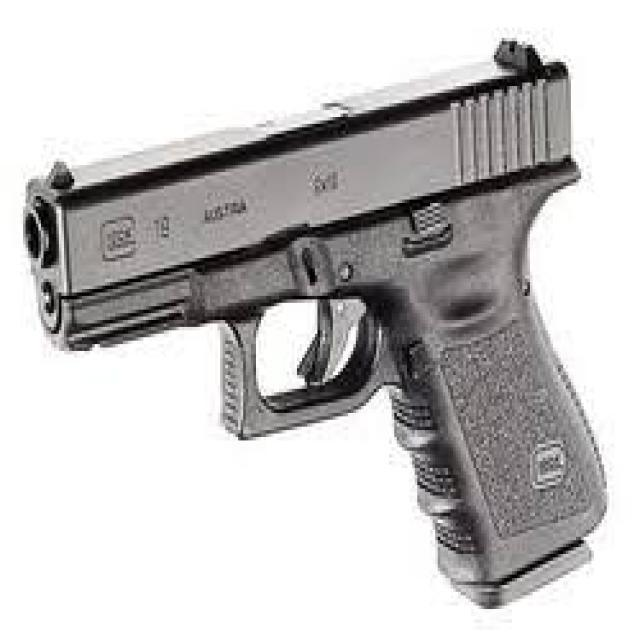semi automatic: (12, 16, 608, 596)
